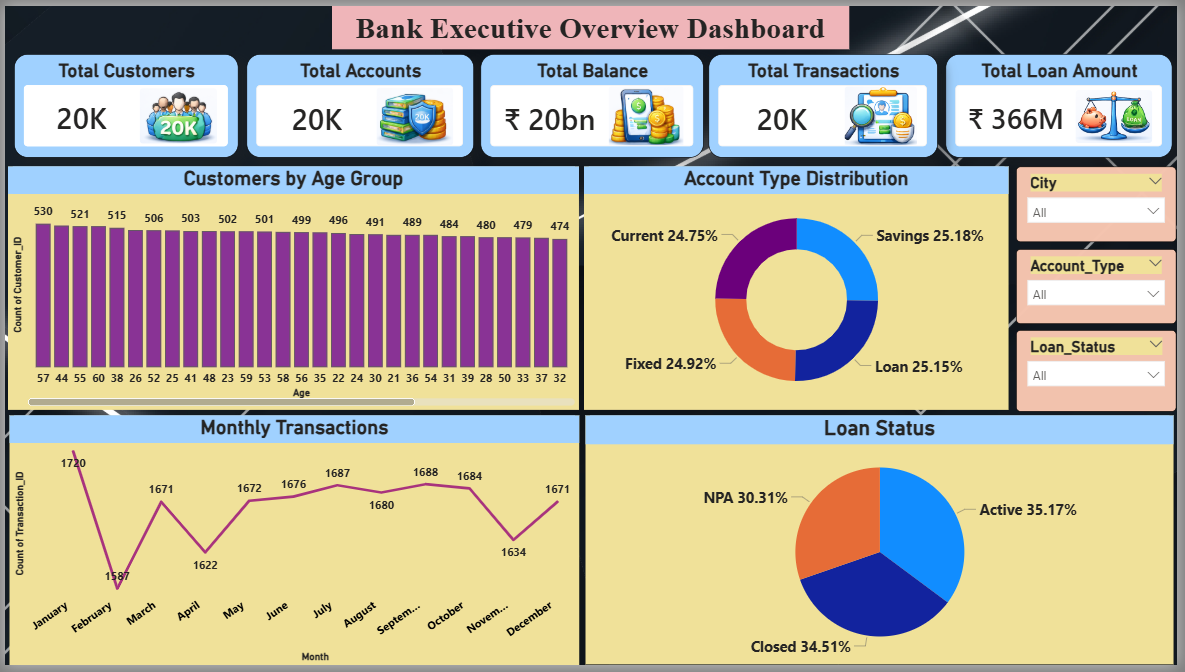

This screenshot's page, from the dashboard's own definition file:
{"tool":"powerbi","page":{"name":"Bank Executive Overview","canvas":[1280,720],"ordinal":2},"visuals":[{"type":"textbox","box":[357.5,0,565,47.5],"z":0},{"type":"cardVisual","title":"Total Customers","fields":{"Data":["Account Details.Total Customers"]},"box":[9.8,52,245.1,113.2],"z":1000},{"type":"cardVisual","title":"Total Accounts","fields":{"Data":["Account Details.Total Accounts"]},"box":[263.7,52,248.5,113.2],"z":2000},{"type":"cardVisual","title":"Total Balance","fields":{"Data":["Account Details.Total Balance"]},"box":[520.1,52.5,244.1,113.2],"z":3000},{"type":"cardVisual","title":"Total Loan Amount","fields":{"Data":["Account Details.Total Loan Amount"]},"box":[1027.9,52,248,113.2],"z":4000},{"type":"cardVisual","title":"Total Transactions","fields":{"Data":["Account Details.Total Transactions"]},"box":[769.6,52.5,250.5,113.2],"z":5000},{"type":"donutChart","title":"Account Type Distribution","fields":{"Category":["Account Details.Account_Type"],"Y":["CountNonNull(Account Details.Account_ID)"]},"box":[633.3,175.8,464.2,265.8],"z":6000},{"type":"columnChart","title":"Customers by Age Group","fields":{"Category":["Customer Details.Age"],"Y":["CountNonNull(Customer Details.Customer_ID)"]},"box":[4,176,624,266],"z":7000},{"type":"pieChart","title":"Loan Status","fields":{"Category":["Loan Details.Loan_Status"],"Y":["CountNonNull(Loan Details.Loan_ID)"]},"box":[633.9,448.3,642.8,271.7],"z":8000},{"type":"lineChart","title":"Monthly Transactions","fields":{"Category":["Transaction Details.Last_Transaction_Date.Variation.Date Hierarchy.Month"],"Y":["CountNonNull(Transaction Details.Transaction_ID)"]},"box":[5.3,447.4,622.8,273.7],"z":9000},{"type":"slicer","fields":{"Values":["Customer Details.City"]},"box":[1104.9,175,175,82.4],"z":10000},{"type":"slicer","fields":{"Values":["Account Details.Account_Type"]},"box":[1104.9,265.7,175,81.9],"z":11000},{"type":"slicer","fields":{"Values":["Loan Details.Loan_Status"]},"box":[1104.4,353.9,175.5,89.2],"z":12000}]}

Visuals, with their boxes in screenshot pixels (x1, y1, x2, y2), scaled from the page's 1280x720 canvas onto the 1185x672 screenshot:
textbox: (331,0,854,44)
"Total Customers" cardVisual: (9,49,236,154)
"Total Accounts" cardVisual: (244,49,474,154)
"Total Balance" cardVisual: (481,49,707,155)
"Total Loan Amount" cardVisual: (952,49,1181,154)
"Total Transactions" cardVisual: (712,49,944,155)
"Account Type Distribution" donutChart: (586,164,1016,412)
"Customers by Age Group" columnChart: (4,164,581,413)
"Loan Status" pieChart: (587,418,1182,671)
"Monthly Transactions" lineChart: (5,418,581,671)
slicer - Customer Details.City: (1023,163,1184,240)
slicer - Account Details.Account_Type: (1023,248,1184,324)
slicer - Loan Details.Loan_Status: (1022,330,1184,414)
